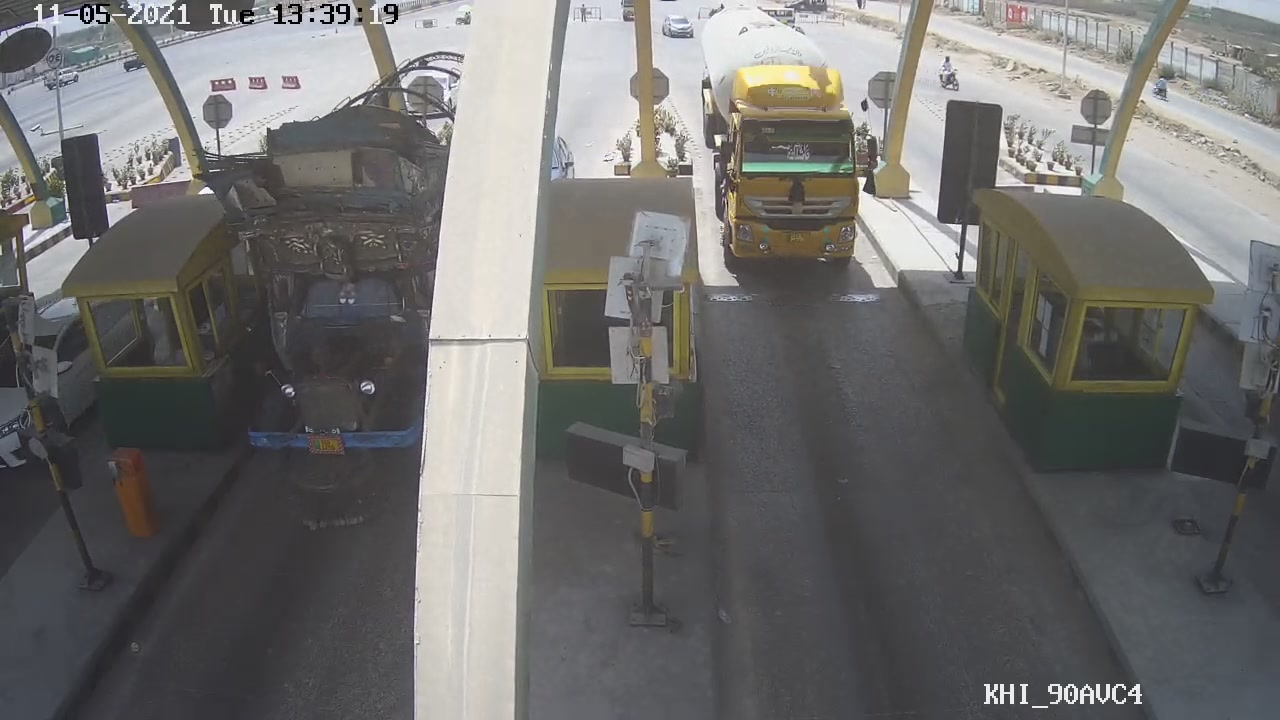F6: (701, 52, 881, 278)
